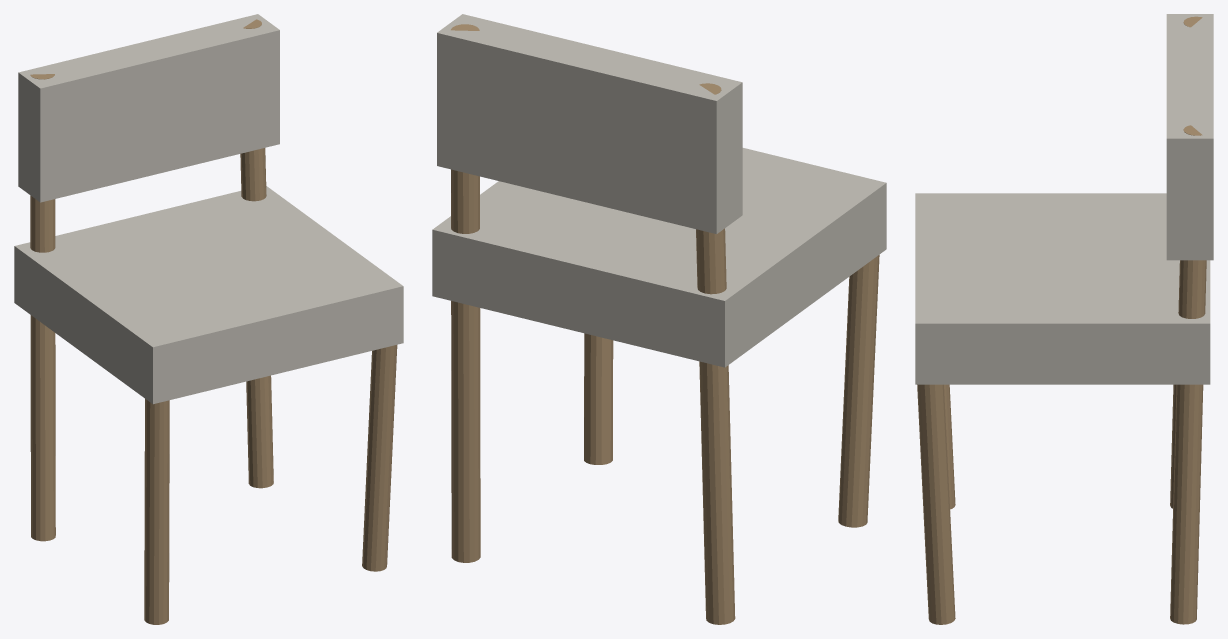
Rendered from palak.glb.
The picture shows the model from 3 angles, left to right: view 1: azimuth 30°, elevation 25°; view 2: azimuth 150°, elevation 25°; view 3: azimuth 270°, elevation 25°; orthographic projection. The views are drawn at different scales.
Parts seen in each view (by area): view 1: MMA_Upholstery, MMA_Wood; view 2: MMA_Upholstery, MMA_Wood; view 3: MMA_Upholstery, MMA_Wood.
Part boxes in pixels (x1,y1,x2,y2): MMA_Upholstery: (14, 14, 403, 404); MMA_Wood: (30, 19, 397, 624); MMA_Upholstery: (432, 14, 886, 367); MMA_Wood: (451, 24, 879, 624); MMA_Upholstery: (915, 14, 1213, 384); MMA_Wood: (917, 16, 1206, 624).
Size of the model in its own units: 0.46 by 0.8015 by 0.445.
